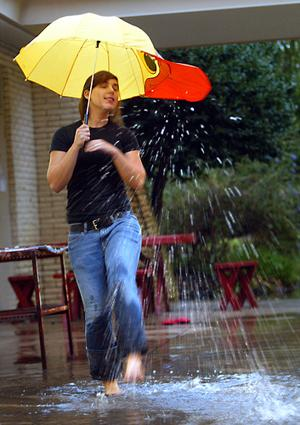person: (47, 71, 145, 399)
